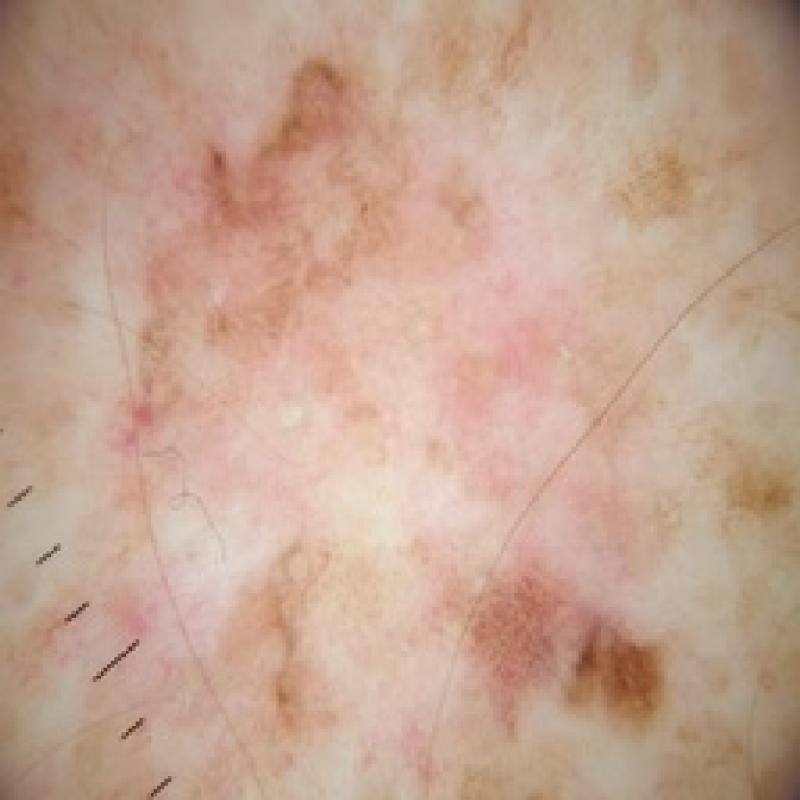malignant: (110, 48, 522, 472), (362, 510, 693, 773)
